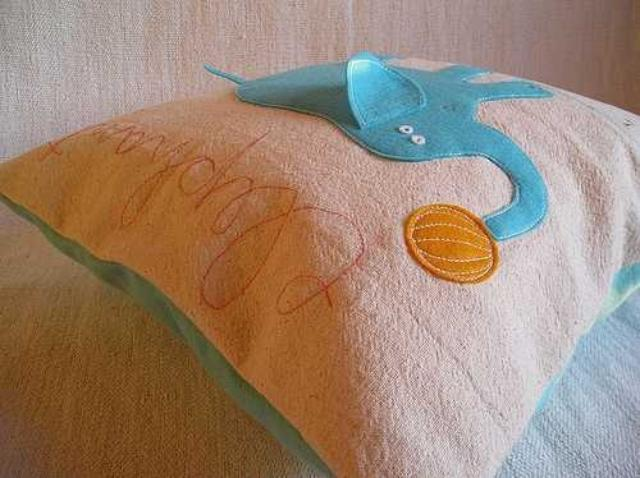pillow: (0, 51, 638, 477)
